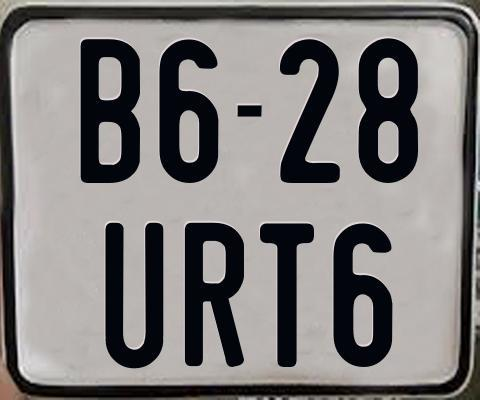2: (279, 36, 339, 184)
6: (159, 38, 223, 185), (330, 221, 390, 371)
8: (358, 37, 423, 188)
B: (81, 36, 146, 183)
R: (182, 222, 242, 368)
T: (260, 221, 319, 369)
U: (105, 220, 164, 367)
